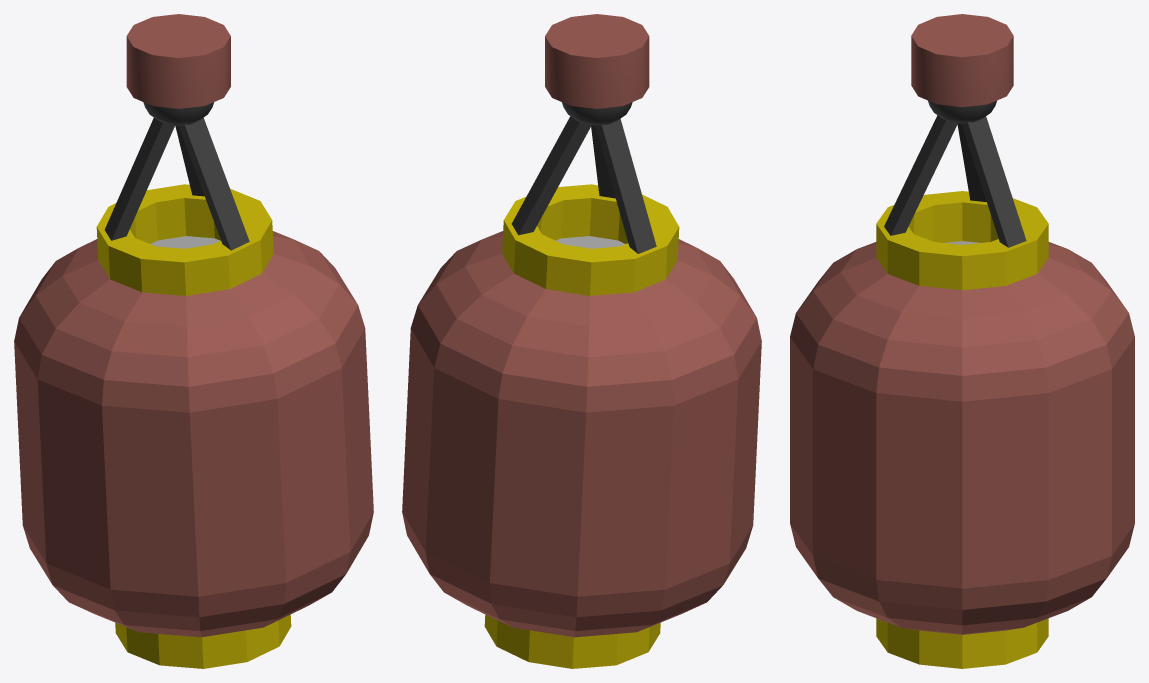
The model's file is Toybox_lampion_01.fbx.
3 renders of one model, left to right at view 1: azimuth 30°, elevation 25°; view 2: azimuth 150°, elevation 25°; view 3: azimuth 270°, elevation 25°, orthographic.
Parts seen in each view (by area): view 1: lampion_01, mounting_01; view 2: lampion_01, mounting_01; view 3: lampion_01, mounting_01.
Boxes of the visible parts, x1,y1,x2,y2 form: lampion_01: (14, 118, 373, 668); mounting_01: (126, 14, 230, 125); lampion_01: (402, 116, 761, 668); mounting_01: (545, 14, 649, 125); lampion_01: (790, 115, 1134, 668); mounting_01: (911, 14, 1013, 123).
Size of the model in its own units: 0.5617 by 1.04 by 0.5468.
